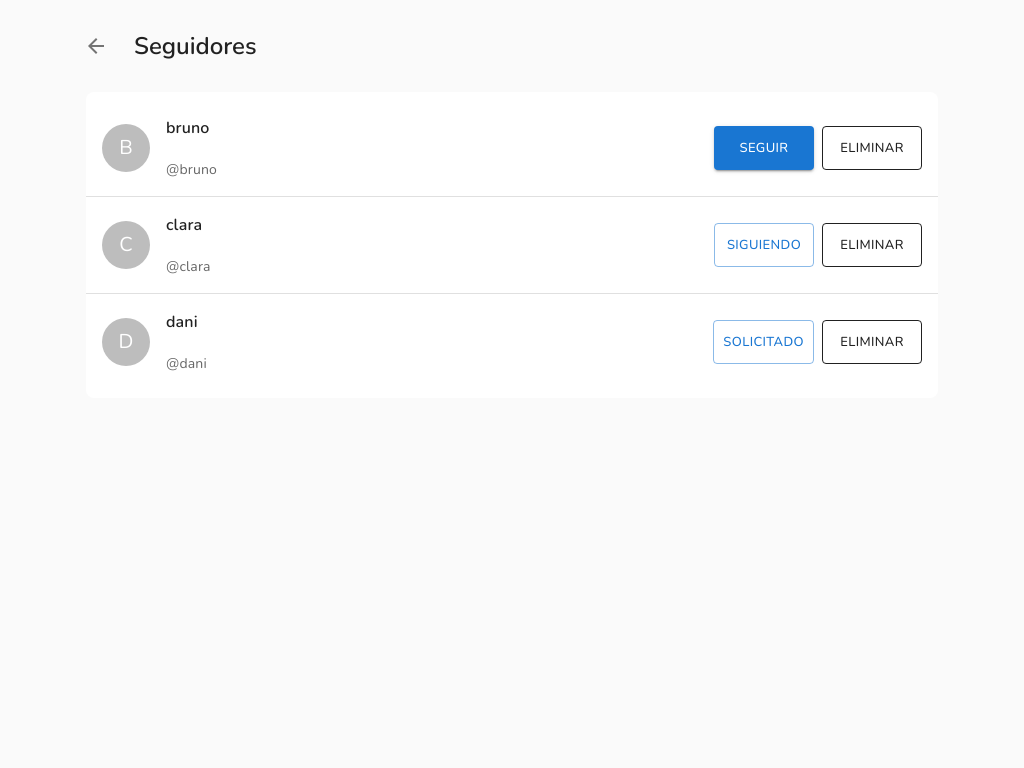
Test: Followers page in Spanish › on your own list › should offer "Eliminar" and ask in Spanish, saying the person will not be told
Click the 1st button "Eliminar" at [872, 148], box x1=822 y1=126 x2=922 y2=170
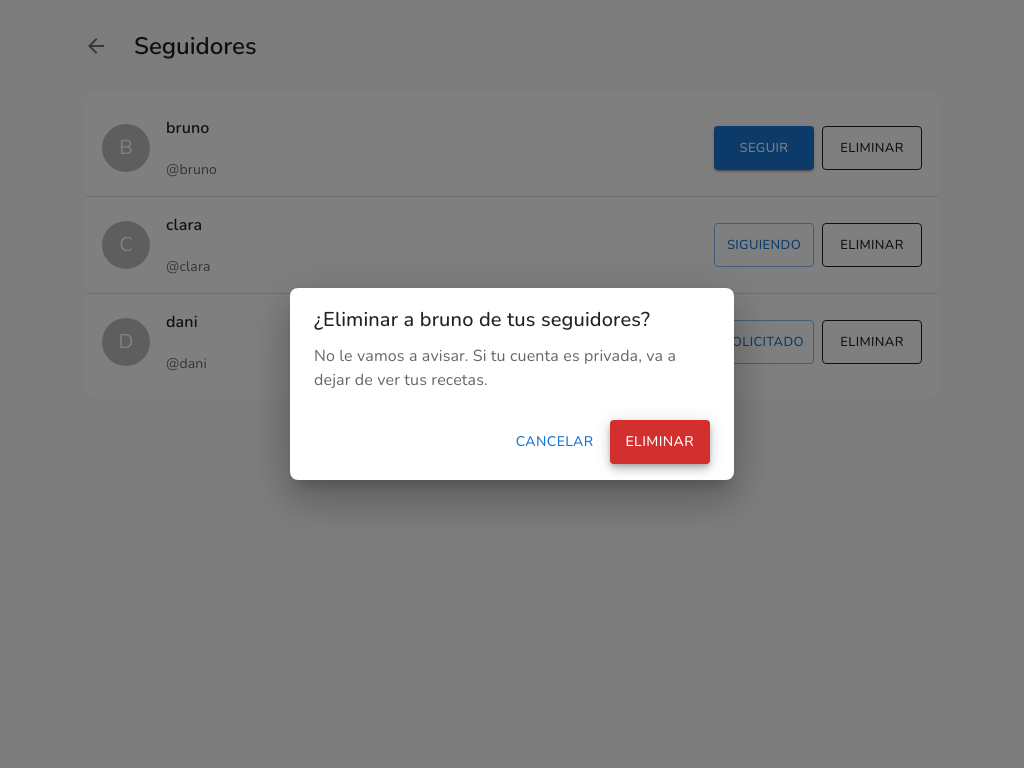
Expected: the text "No le vamos a avisar. Si tu cuenta es privada, va a dejar de ver tus recetas." is shown, x1=314 y1=344 x2=710 y2=392
Expected: the button "Eliminar" is shown, x1=610 y1=420 x2=710 y2=464
Expected: the button "Cancelar" is shown, x1=508 y1=420 x2=602 y2=464
